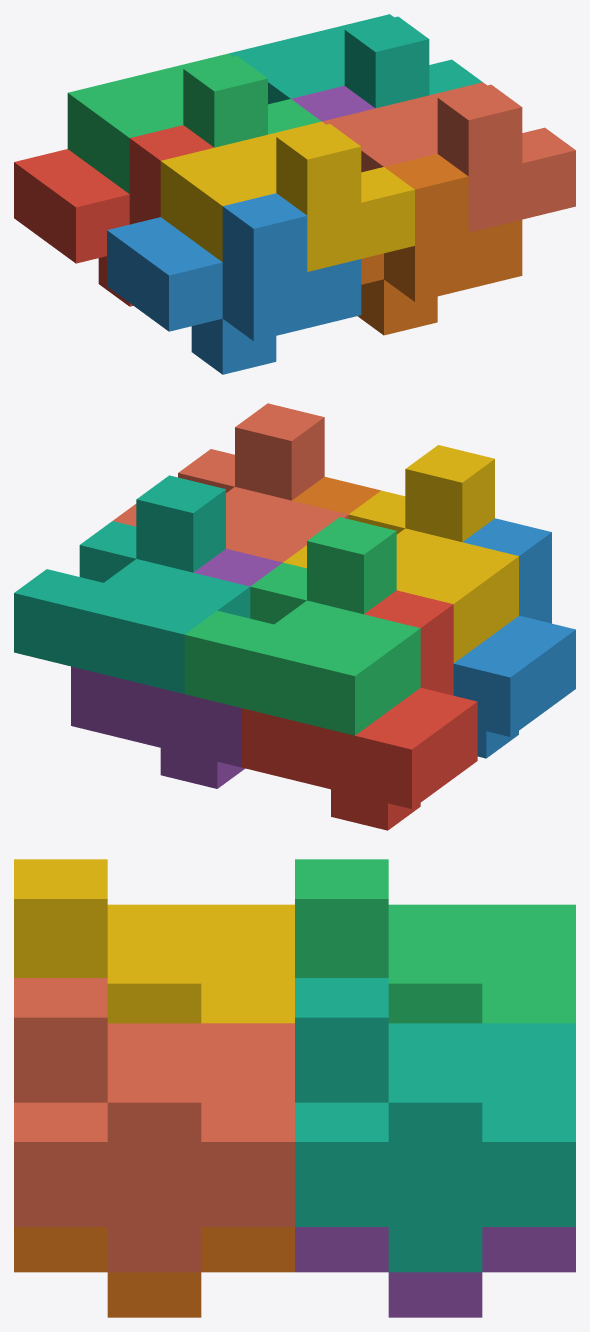
File: tiling.obj
3 views of the same model, one above another, from view 1: azimuth 30°, elevation 25°; view 2: azimuth 150°, elevation 25°; view 3: azimuth 270°, elevation 25° (orthographic). The views are drawn at different scales.
Parts seen in each view (by area): view 1: copy_1_domain_2, copy_1_domain_4, copy_1_domain_8, copy_1_domain_3, copy_1_domain_6, copy_1_domain_1, copy_1_domain_7, copy_1_domain_5; view 2: copy_1_domain_3, copy_1_domain_7, copy_1_domain_1, copy_1_domain_4, copy_1_domain_2, copy_1_domain_8, copy_1_domain_5, copy_1_domain_6; view 3: copy_1_domain_7, copy_1_domain_8, copy_1_domain_3, copy_1_domain_4, copy_1_domain_5, copy_1_domain_6.
Part boxes in pixels (x1,y1,x2,y2): copy_1_domain_2: [107, 193, 361, 374]; copy_1_domain_4: [160, 121, 414, 271]; copy_1_domain_8: [322, 82, 575, 232]; copy_1_domain_3: [67, 53, 321, 193]; copy_1_domain_6: [357, 154, 522, 335]; copy_1_domain_1: [14, 125, 213, 306]; copy_1_domain_7: [229, 14, 482, 108]; copy_1_domain_5: [291, 85, 375, 121]; copy_1_domain_3: [184, 517, 420, 735]; copy_1_domain_7: [14, 475, 250, 693]; copy_1_domain_1: [241, 590, 477, 830]; copy_1_domain_4: [283, 445, 518, 662]; copy_1_domain_2: [453, 518, 575, 758]; copy_1_domain_8: [113, 403, 348, 562]; copy_1_domain_5: [71, 548, 282, 788]; copy_1_domain_6: [292, 476, 380, 514]; copy_1_domain_7: [295, 978, 575, 1272]; copy_1_domain_8: [14, 978, 294, 1272]; copy_1_domain_3: [295, 859, 575, 1023]; copy_1_domain_4: [14, 859, 294, 1023]; copy_1_domain_5: [295, 1227, 575, 1317]; copy_1_domain_6: [14, 1227, 294, 1317].
Size of the model in its own units: 7 by 4 by 6.
